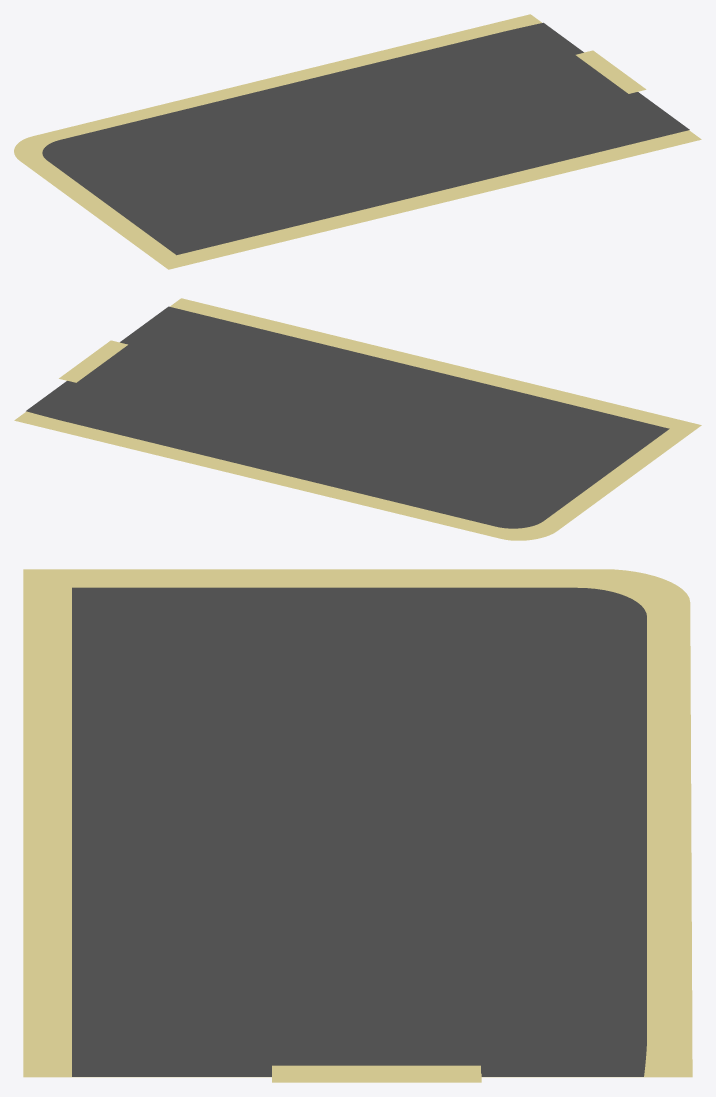
The model's file is InventoryPanel button left.fbx.
3 renders of one model, top to bottom at view 1: azimuth 30°, elevation 25°; view 2: azimuth 150°, elevation 25°; view 3: azimuth 270°, elevation 25°, orthographic. The views are drawn at different scales.
Visible parts, largest first — view 1: Curve.001, Curve, Curve.002, Curve.003; view 2: Curve.001, Curve, Curve.002, Curve.003; view 3: Curve.001, Curve, Curve.002, Curve.003.
Part boxes in pixels (x1=…): Curve.001: x1=42, y1=22, x2=689, y2=255; Curve: x1=14, y1=14, x2=701, y2=269; Curve.002: x1=576, y1=52, x2=637, y2=93; Curve.003: x1=584, y1=50, x2=646, y2=91; Curve.001: x1=26, y1=306, x2=669, y2=528; Curve: x1=14, y1=298, x2=701, y2=540; Curve.002: x1=67, y1=342, x2=127, y2=382; Curve.003: x1=59, y1=340, x2=118, y2=380; Curve.001: x1=72, y1=587, x2=646, y2=1076; Curve: x1=23, y1=569, x2=692, y2=1077; Curve.002: x1=272, y1=1065, x2=480, y2=1074; Curve.003: x1=272, y1=1073, x2=481, y2=1082.
Size of the model in its own units: 12.78 by 0.03 by 7.
